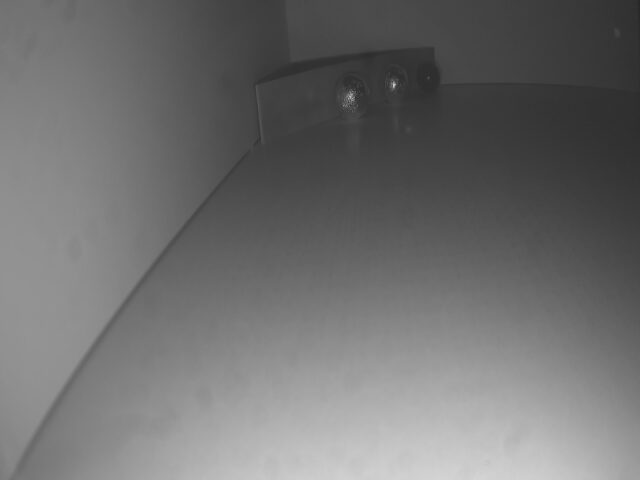Dead: (418, 63, 442, 93)
Live: (336, 73, 370, 121), (382, 66, 411, 104)
Red: (254, 47, 434, 148)
